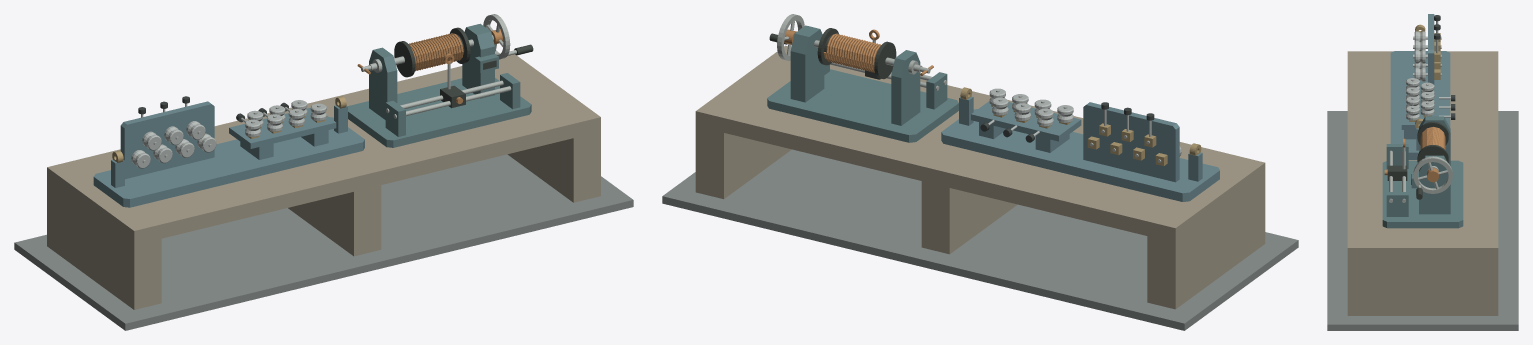
The picture shows the model from 3 angles, left to right: view 1: azimuth 30°, elevation 25°; view 2: azimuth 150°, elevation 25°; view 3: azimuth 270°, elevation 25°; orthographic projection. The views are drawn at different scales.
Visible parts, largest first — view 1: SCENE_ONLY__WholeLongDoubleBayBench, SCENE_ONLY__WholeCommonFloor, straightener__WholeLongChamferedMachineBed, winder__WholeChamferedMachineBase, straightener__WholeUprightSevenRollCarrierPlate, straightener__WholeHorizontalSevenRollCarrierPlate, winder__WholeTailstockHousing, winder__WholeDriveHousing, winder__WholeContinuousTwentyTurnWinding, winder__WholeFrontTraverseEndStandard0, winder__WholeFrontTraverseEndStandard1, winder__WholeBobbinFlange-1 (+3 smaller); view 2: SCENE_ONLY__WholeLongDoubleBayBench, SCENE_ONLY__WholeCommonFloor, straightener__WholeLongChamferedMachineBed, winder__WholeChamferedMachineBase, straightener__WholeUprightSevenRollCarrierPlate, winder__WholeDriveHousing, winder__WholeTailstockHousing, straightener__WholeHorizontalSevenRollCarrierPlate, winder__WholeContinuousTwentyTurnWinding, winder__WholeFrontTraverseEndStandard0, winder__WholeBobbinFlange-1, winder__WholeOpenFourSpokeHandwheelRim; view 3: SCENE_ONLY__WholeLongDoubleBayBench, SCENE_ONLY__WholeCommonFloor, winder__WholeChamferedMachineBase, straightener__WholeLongChamferedMachineBed, winder__WholeDriveHousing, winder__WholeOpenFourSpokeHandwheelRim, winder__WholeFrontTraverseEndStandard1, straightener__WholeHorizontalSevenRollCarrierPlate, straightener__WholeUprightSevenRollCarrierPlate, winder__WholeContinuousTwentyTurnWinding, winder__WholeFrontTraverseEndStandard0, winder__WholeTailstockHousing (+7 smaller).
Part boxes in pixels (bbox=[...]): SCENE_ONLY__WholeLongDoubleBayBench: bbox=[47, 54, 600, 309]; SCENE_ONLY__WholeCommonFloor: bbox=[14, 154, 633, 330]; straightener__WholeLongChamferedMachineBed: bbox=[93, 117, 364, 207]; winder__WholeChamferedMachineBase: bbox=[348, 78, 531, 147]; straightener__WholeUprightSevenRollCarrierPlate: bbox=[120, 101, 214, 179]; straightener__WholeHorizontalSevenRollCarrierPlate: bbox=[229, 108, 336, 148]; winder__WholeTailstockHousing: bbox=[369, 47, 397, 119]; winder__WholeDriveHousing: bbox=[462, 23, 494, 98]; winder__WholeContinuousTwentyTurnWinding: bbox=[408, 33, 463, 71]; winder__WholeFrontTraverseEndStandard0: bbox=[385, 100, 405, 136]; winder__WholeFrontTraverseEndStandard1: bbox=[500, 73, 520, 109]; winder__WholeBobbinFlange-1: bbox=[394, 41, 415, 77]; SCENE_ONLY__WholeLongDoubleBayBench: bbox=[695, 45, 1265, 309]; SCENE_ONLY__WholeCommonFloor: bbox=[662, 149, 1298, 330]; straightener__WholeLongChamferedMachineBed: bbox=[941, 109, 1219, 201]; winder__WholeChamferedMachineBase: bbox=[767, 69, 958, 142]; straightener__WholeUprightSevenRollCarrierPlate: bbox=[1083, 102, 1179, 182]; winder__WholeDriveHousing: bbox=[790, 25, 824, 102]; winder__WholeTailstockHousing: bbox=[891, 50, 920, 125]; straightener__WholeHorizontalSevenRollCarrierPlate: bbox=[971, 101, 1081, 141]; winder__WholeContinuousTwentyTurnWinding: bbox=[823, 33, 880, 72]; winder__WholeFrontTraverseEndStandard0: bbox=[926, 72, 947, 109]; winder__WholeBobbinFlange-1: bbox=[874, 41, 896, 79]; winder__WholeOpenFourSpokeHandwheelRim: bbox=[777, 14, 804, 60]; SCENE_ONLY__WholeLongDoubleBayBench: bbox=[1347, 51, 1498, 315]; SCENE_ONLY__WholeCommonFloor: bbox=[1327, 111, 1518, 330]; winder__WholeChamferedMachineBase: bbox=[1382, 160, 1463, 228]; straightener__WholeLongChamferedMachineBed: bbox=[1390, 51, 1450, 159]; winder__WholeDriveHousing: bbox=[1419, 155, 1450, 214]; winder__WholeOpenFourSpokeHandwheelRim: bbox=[1413, 156, 1452, 193]; winder__WholeFrontTraverseEndStandard1: bbox=[1386, 192, 1408, 216]; straightener__WholeHorizontalSevenRollCarrierPlate: bbox=[1401, 88, 1438, 129]; straightener__WholeUprightSevenRollCarrierPlate: bbox=[1428, 14, 1434, 84]; winder__WholeContinuousTwentyTurnWinding: bbox=[1420, 127, 1445, 149]; winder__WholeFrontTraverseEndStandard0: bbox=[1386, 144, 1408, 168]; winder__WholeTailstockHousing: bbox=[1419, 116, 1450, 165].
Size of the model in its own units: 4.62 by 1.43 by 1.75.
